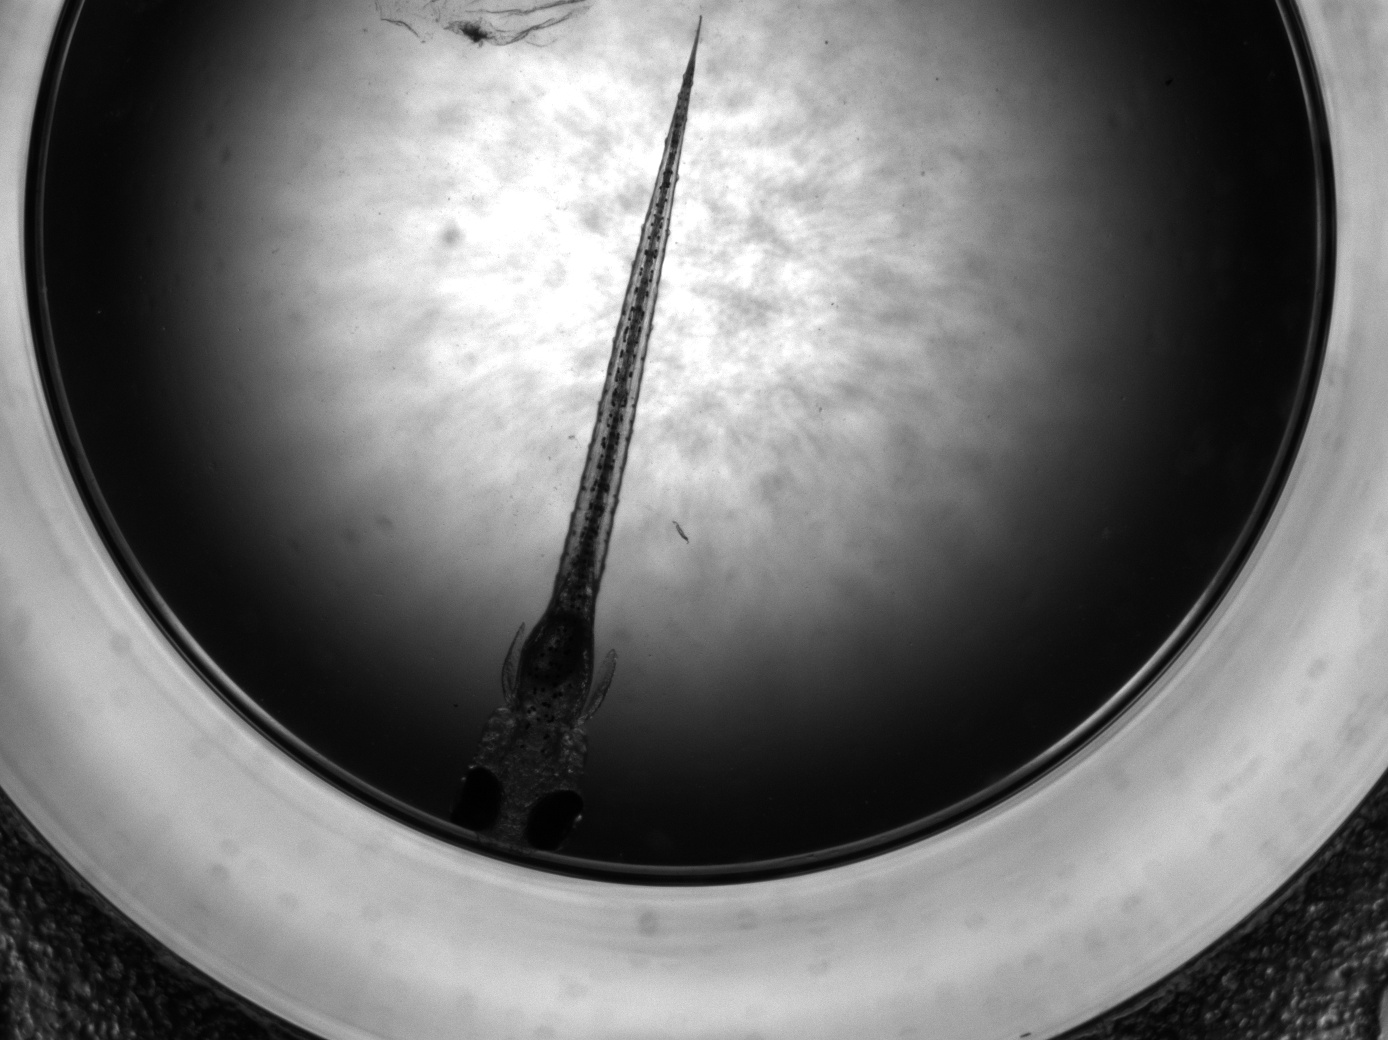debris: (376, 1, 598, 49)
embryo: (450, 12, 701, 859)
eye: (526, 790, 585, 852), (454, 765, 505, 834)
yolksac: (511, 607, 595, 719)
